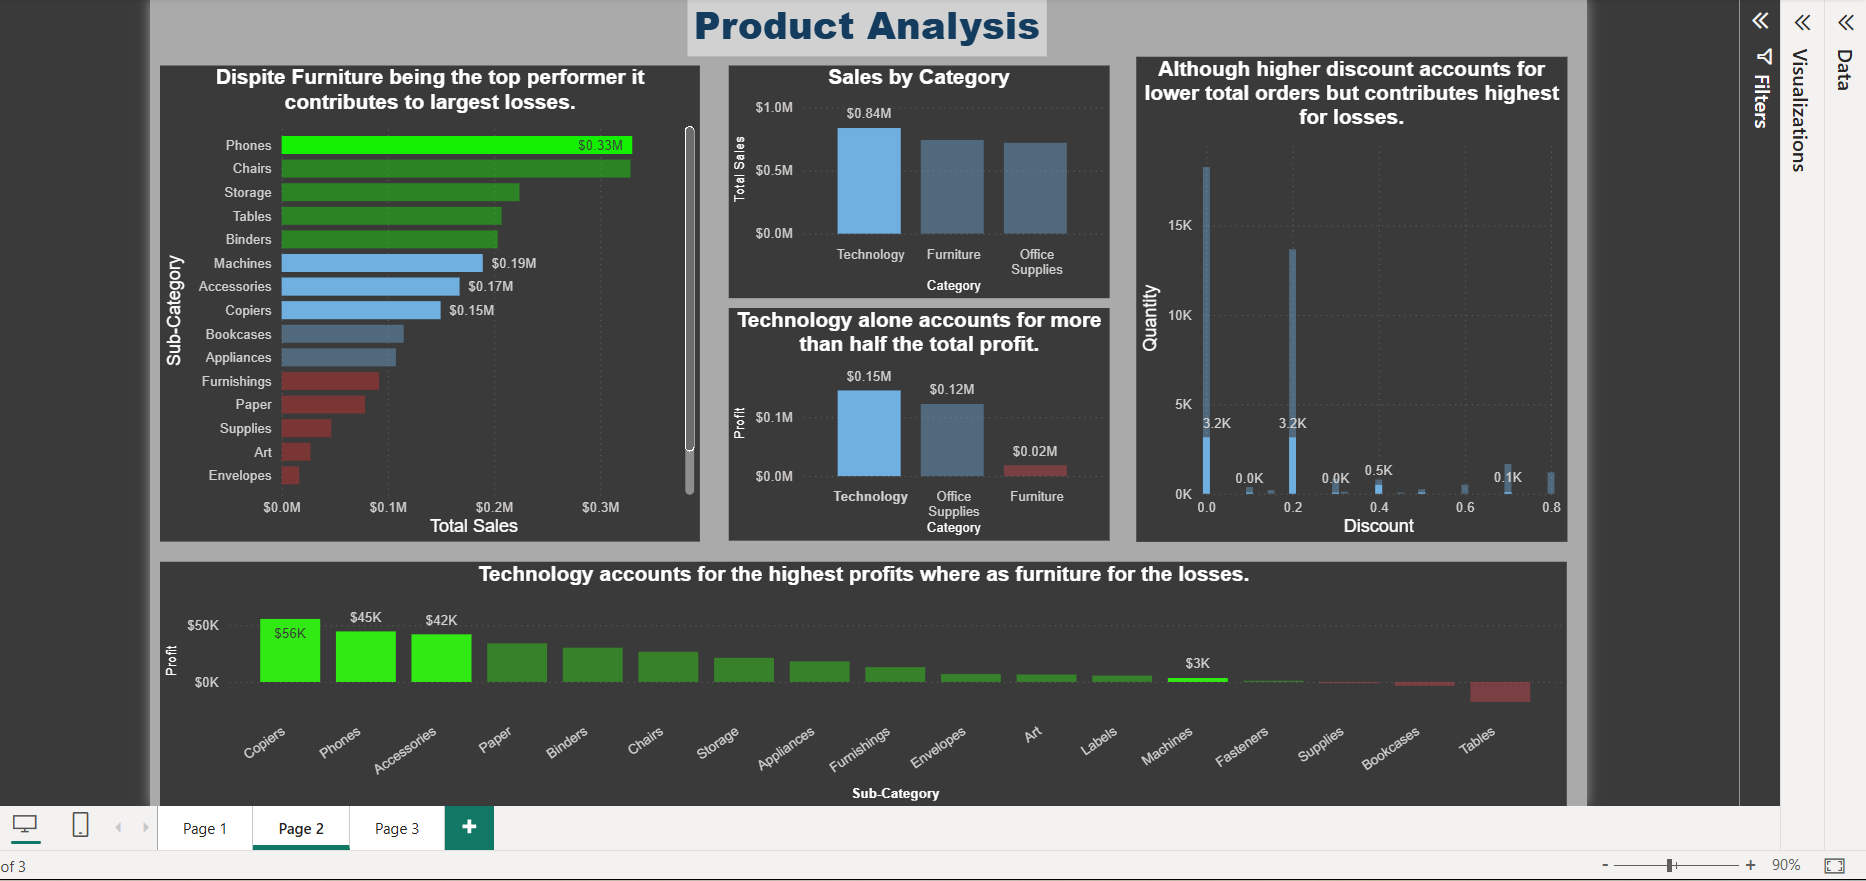

Layout of this report page (visuals, bound fields, positions):
{"tool":"powerbi","page":{"name":"Page 2","canvas":[1280,720],"ordinal":1},"visuals":[{"type":"textbox","title":"Product Analysis","box":[479,0,319.7,51.9],"z":0},{"type":"barChart","title":"Dispite Furniture being the top performer it contributes to largest losses.","fields":{"Y":["Sum(superstore.Sales)"],"Category":["superstore.Sub-Category"]},"box":[9,60,481,424],"z":1000},{"type":"columnChart","title":"Sales by Category","fields":{"Category":["superstore.Category"],"Y":["Sum(superstore.Sales)"]},"box":[515.2,60.3,339,207.5],"z":2000},{"type":"columnChart","title":"Technology accounts for the highest profits where as furniture for  the losses.","fields":{"Y":["Sum(superstore.Profit)"],"Category":["superstore.Sub-Category"]},"box":[9,502,1253,218],"z":3000},{"type":"columnChart","title":"Technology alone accounts for more than half the total profit.","fields":{"Y":["Sum(superstore.Profit)"],"Category":["superstore.Category"]},"box":[515.2,276.3,339,207.5],"z":4000},{"type":"columnChart","title":"Although higher discount accounts for lower total orders but contributes highest for losses.","fields":{"Category":["superstore.Discount"],"Y":["Sum(superstore.Quantity)"]},"box":[878.3,51.9,383.6,431.9],"z":5000}]}

Visuals, with their boxes on the page's 1280x720 design canvas (x1, y1, x2, y2). These are canvas units, not pixel positions in the 1866x881 screenshot, which may show the page scaled, cropped or inside an application window:
"Product Analysis" textbox: l=479, t=0, r=799, b=52
"Dispite Furniture being the top performer it contributes to largest losses." barChart: l=9, t=60, r=490, b=484
"Sales by Category" columnChart: l=515, t=60, r=854, b=268
"Technology accounts for the highest profits where as furniture for  the losses." columnChart: l=9, t=502, r=1262, b=720
"Technology alone accounts for more than half the total profit." columnChart: l=515, t=276, r=854, b=484
"Although higher discount accounts for lower total orders but contributes highest for losses." columnChart: l=878, t=52, r=1262, b=484
